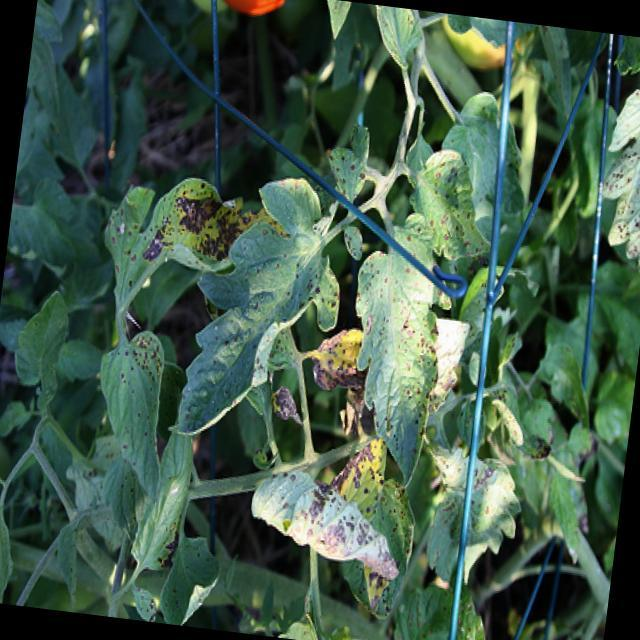Tomato Septoria spot leaf: (160, 161, 357, 455), (331, 205, 460, 493), (91, 165, 288, 322), (242, 459, 414, 586), (315, 432, 427, 623), (85, 320, 180, 508), (421, 443, 528, 600), (394, 140, 500, 273), (124, 421, 199, 574), (590, 75, 640, 281), (6, 285, 74, 412), (156, 526, 226, 629), (308, 320, 372, 398), (320, 118, 374, 206), (366, 4, 425, 73), (0, 496, 23, 604)
